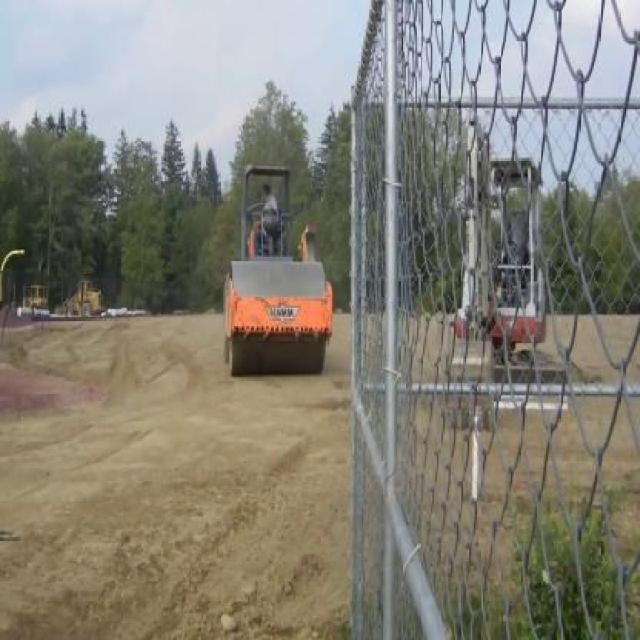excavator: (451, 130, 569, 415)
